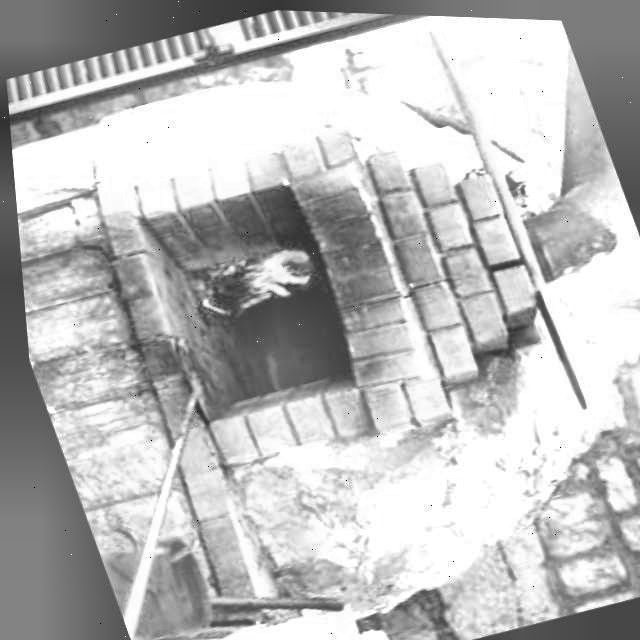Fire: (201, 236, 325, 316)
